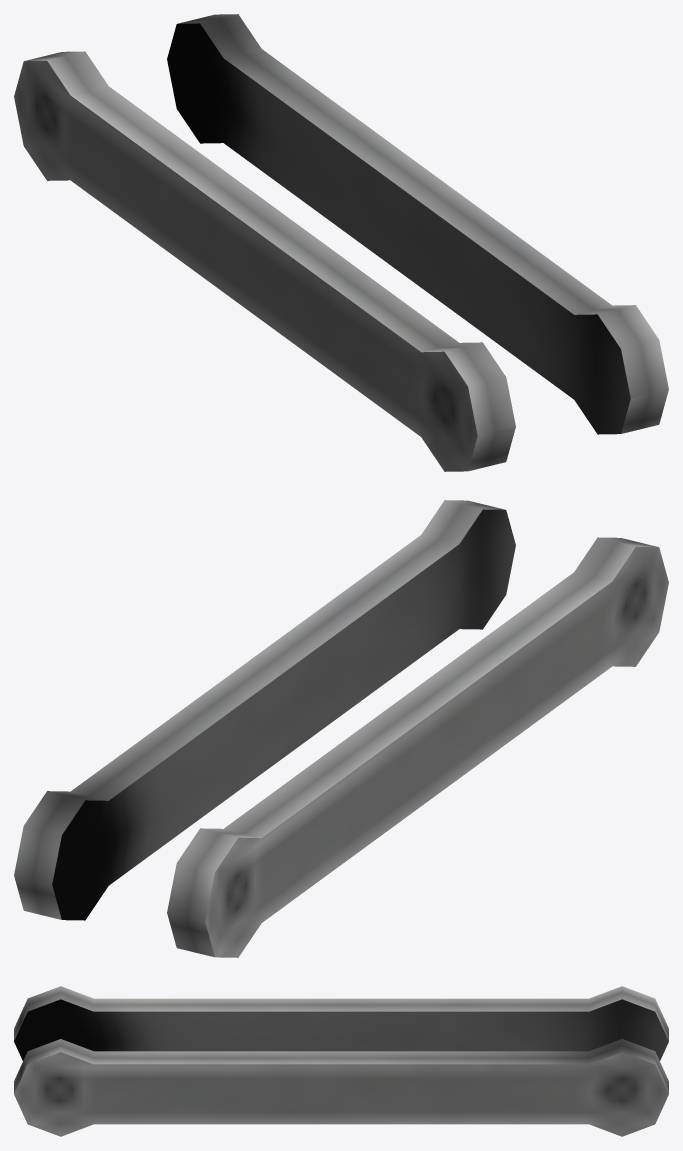
File: lgarm.obj
The picture shows the model from 3 angles, top to bottom: view 1: azimuth 30°, elevation 25°; view 2: azimuth 150°, elevation 25°; view 3: azimuth 270°, elevation 25°; orthographic projection. The views are drawn at different scales.
Visible parts, largest first — view 1: 1; view 2: 1; view 3: 1.
Part boxes in pixels (<box>): 1: <box>14,14,668,471</box>; 1: <box>14,500,668,957</box>; 1: <box>14,986,668,1136</box>.
Size of the model in its own units: 0.0625 by 0.0375 by 0.2625.
1 material, 1 textured.
